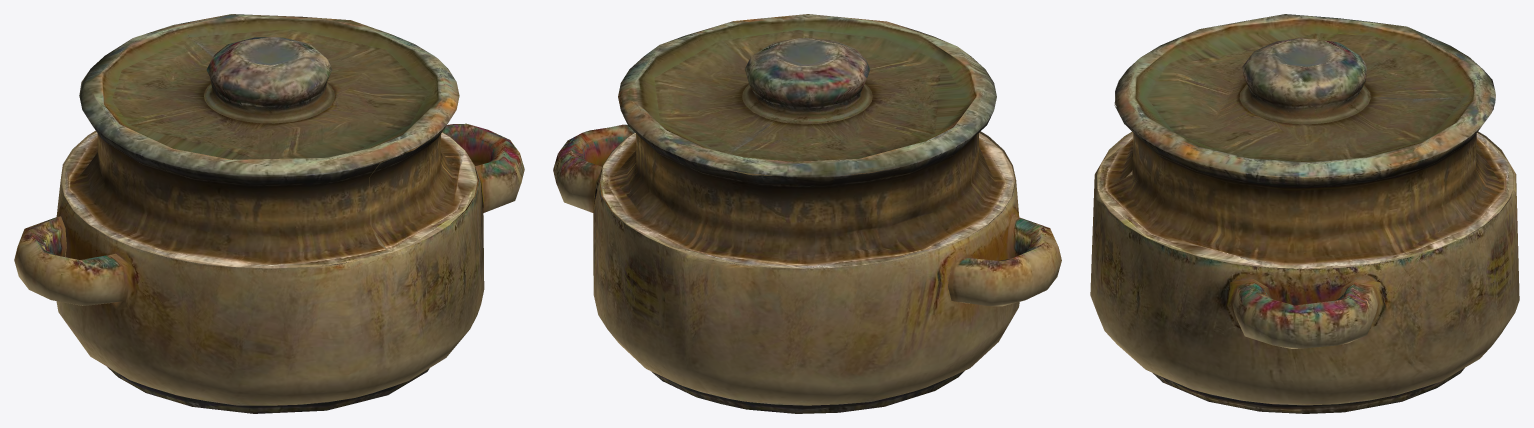
Rendered from ceramic_pot.glb.
The picture shows the model from 3 angles, left to right: view 1: azimuth 30°, elevation 25°; view 2: azimuth 150°, elevation 25°; view 3: azimuth 270°, elevation 25°; orthographic projection.
Visible parts, largest first — view 1: lod0; view 2: lod0; view 3: lod0.
Part boxes in pixels (<box>): lod0: <box>14,14,524,413</box>; lod0: <box>553,14,1061,413</box>; lod0: <box>1090,14,1519,413</box>.
Size of what is drawn, in the model's own units: 0.6563 by 0.3717 by 0.5012.
1 material, 1 textured.
